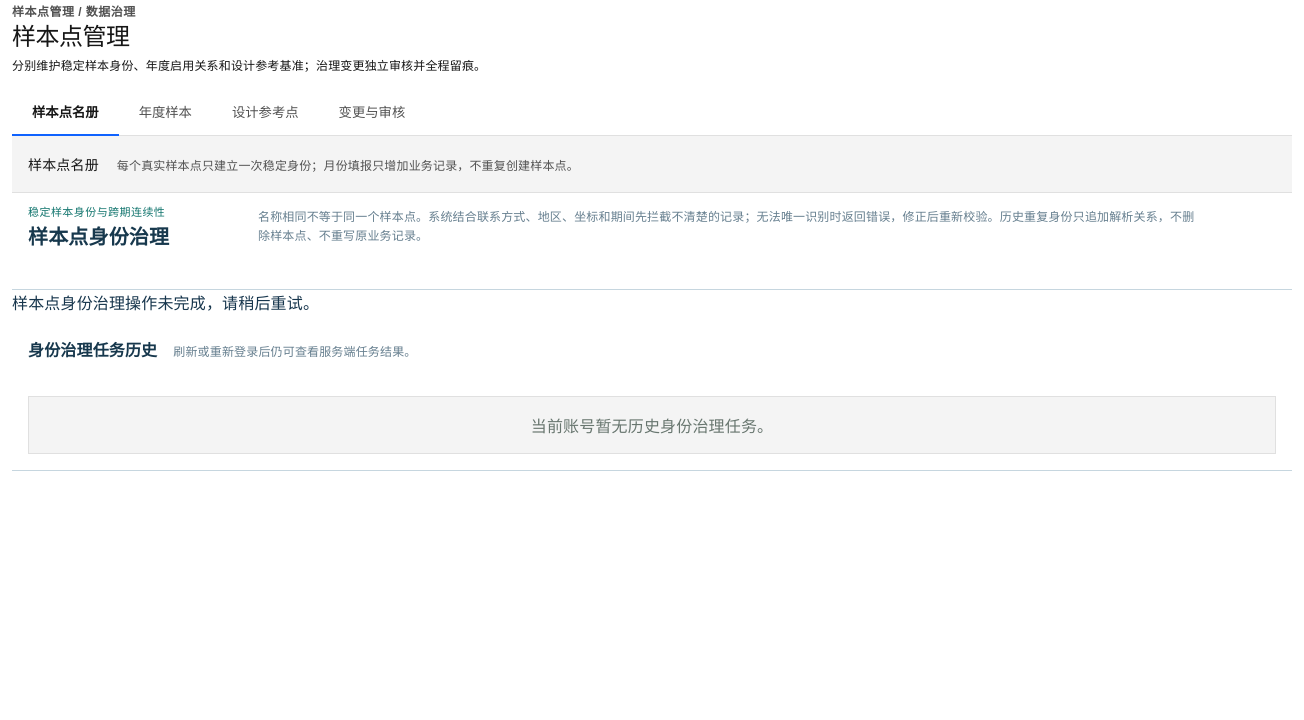
Scenario: SamplePointGovernanceWorkspace › keeps one unified design ledger with reference-category filters and planning-only columns
The image size is (1304, 720).
Click the tab "设计参考点" at (265,111), box [212,87,319,135]
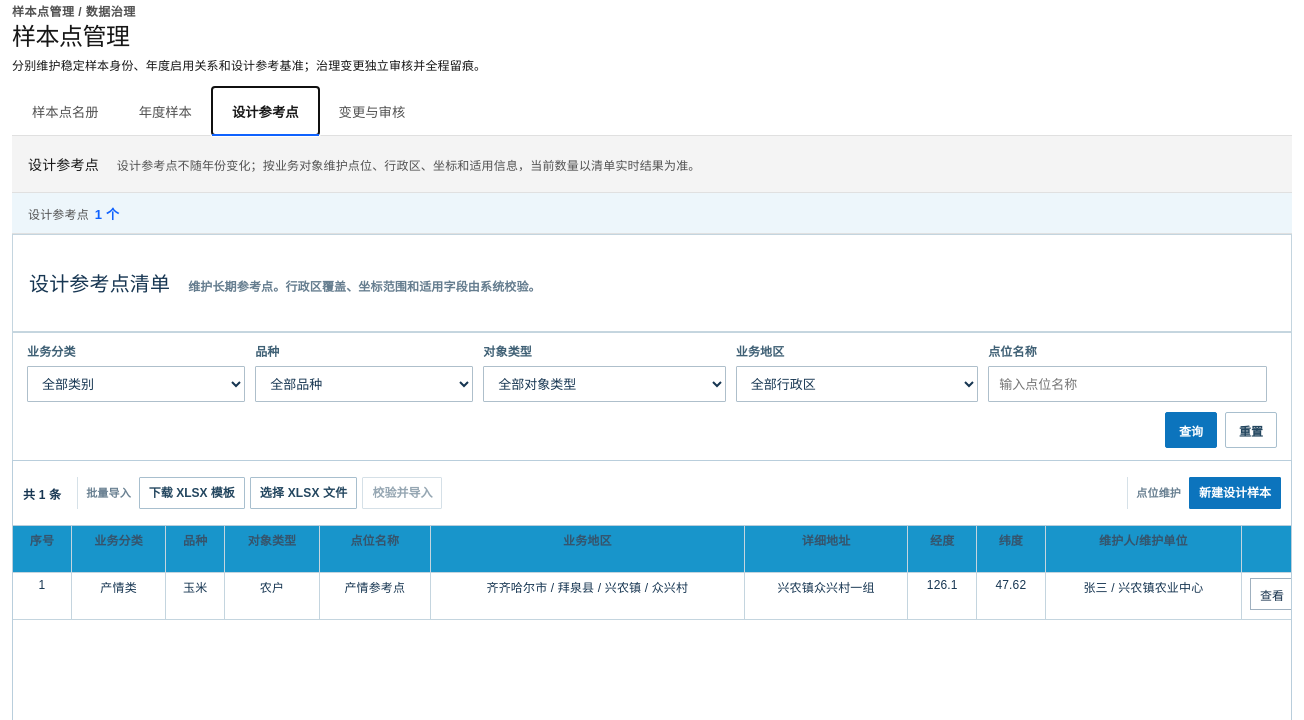
Check: the dropdown named "筛选参考类别" is shown, box [27,366,245,402]
Check: the dropdown named "筛选品种" is shown, box [255,366,473,402]
Check: the dropdown named "筛选参考对象类型" is shown, box [483,366,726,402]
